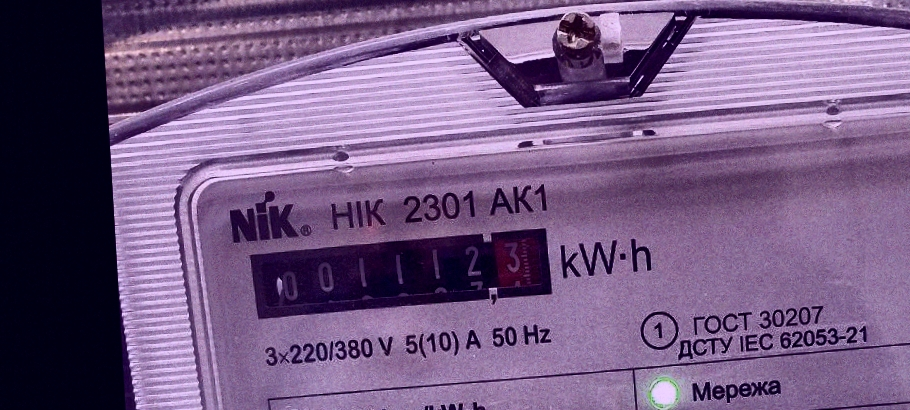0: (313, 257, 337, 296), (277, 266, 301, 302)
1: (352, 252, 372, 291), (389, 249, 406, 287), (427, 244, 443, 282)
2: (460, 242, 484, 279)
3: (501, 239, 521, 275)
screen: (242, 224, 559, 323)
